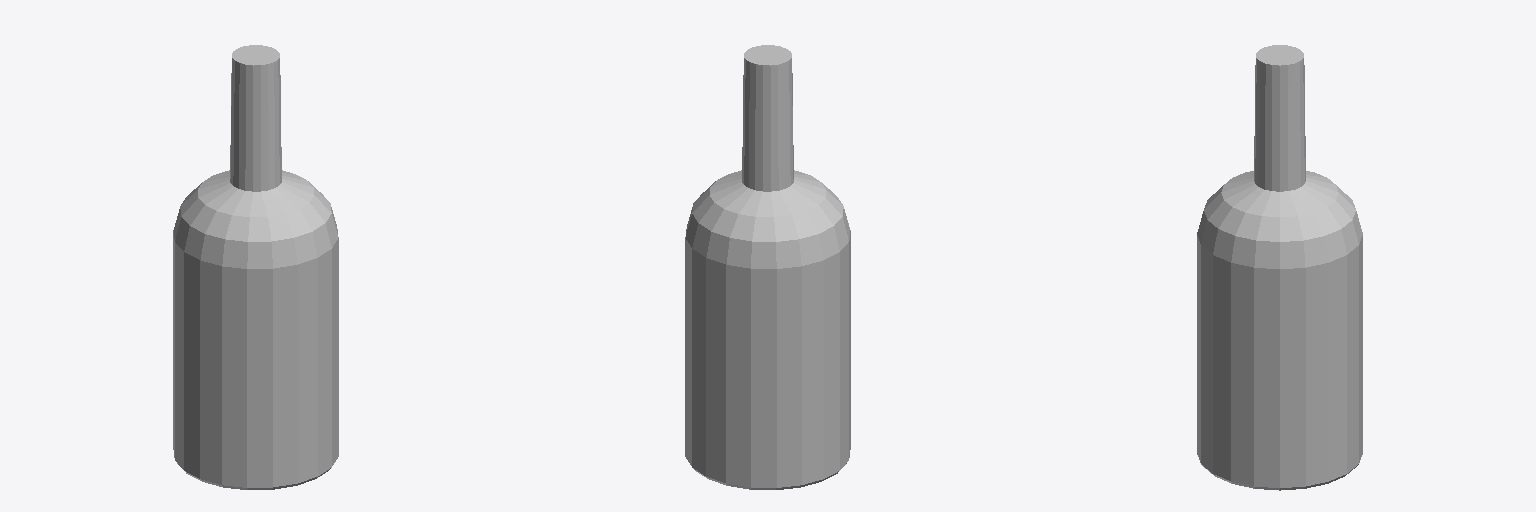
The model's file is lowpolybottle.obj.
The picture shows the model from 3 angles: view 1: azimuth 30°, elevation 25°; view 2: azimuth 150°, elevation 25°; view 3: azimuth 270°, elevation 25°; orthographic projection.
Size of the model in its own units: 2 by 5.33 by 2.